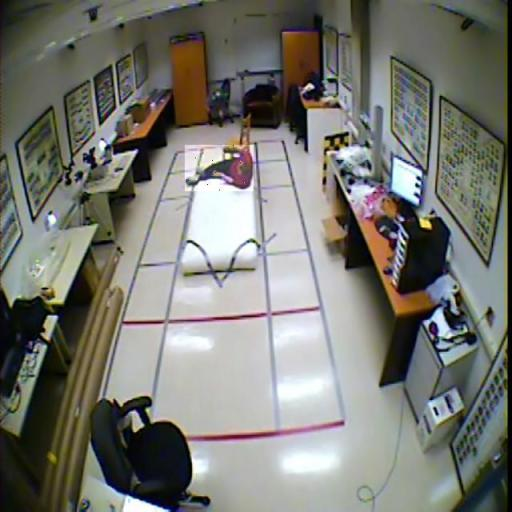Fall: (185, 145, 254, 191)
